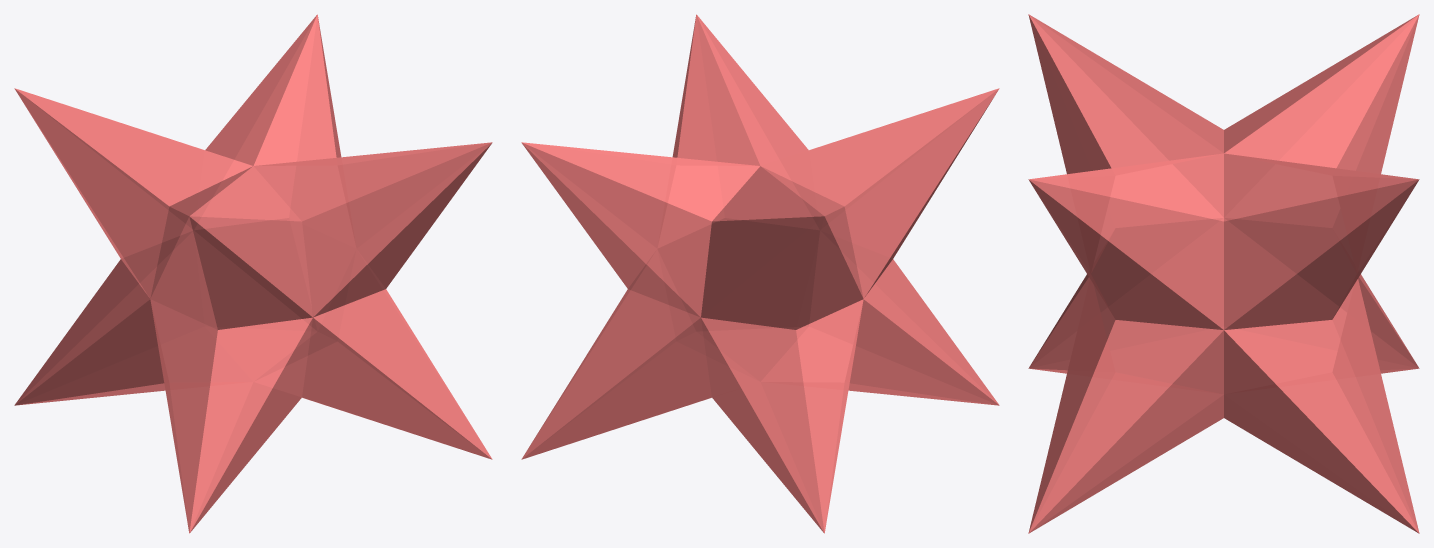
The model's file is GreatDisdyakisDodecahedron.obj.
The picture shows the model from 3 angles, left to right: view 1: azimuth 30°, elevation 25°; view 2: azimuth 150°, elevation 25°; view 3: azimuth 270°, elevation 25°; orthographic projection. The views are drawn at different scales.
Size of the model in its own units: 2.83 by 2.83 by 2.83.
